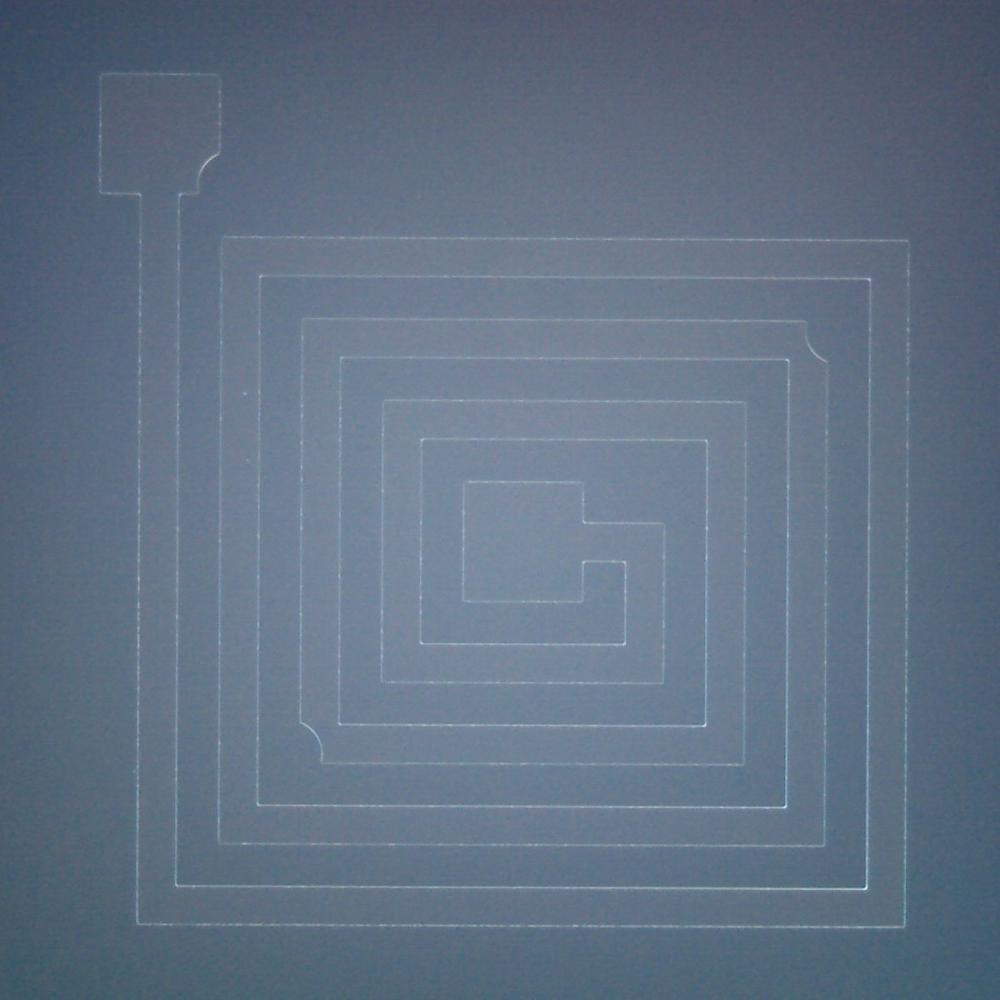curve circuit: (182, 144, 240, 206), (792, 308, 842, 375), (288, 717, 333, 774)
